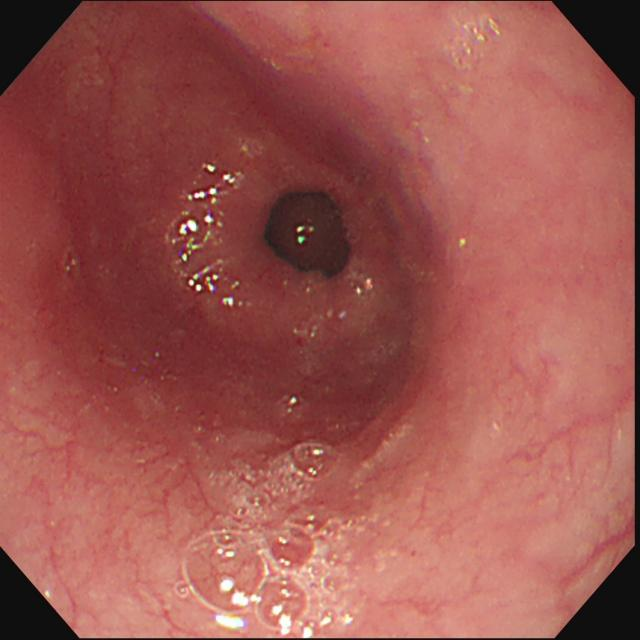E: (258, 183, 361, 288)
T: (175, 439, 362, 640), (448, 13, 502, 74)
U: (170, 160, 246, 312)
